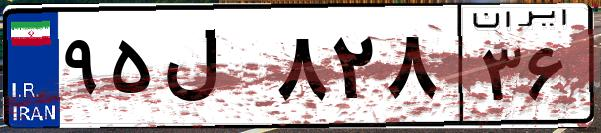2: (330, 28, 385, 110)
3: (475, 38, 525, 113)
5: (110, 28, 158, 98)
6: (525, 38, 570, 115)
8: (270, 28, 330, 110), (385, 28, 445, 110)
9: (57, 26, 110, 100)
ل: (158, 20, 270, 120)
